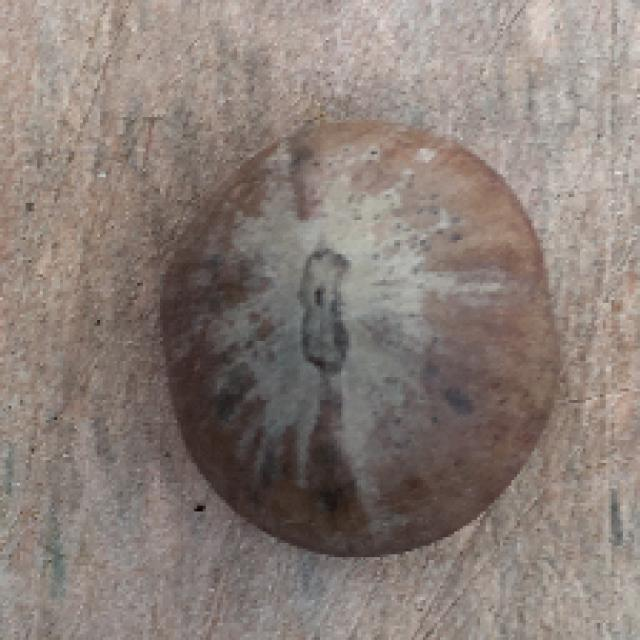qualityHazelnut: (154, 95, 572, 561)
